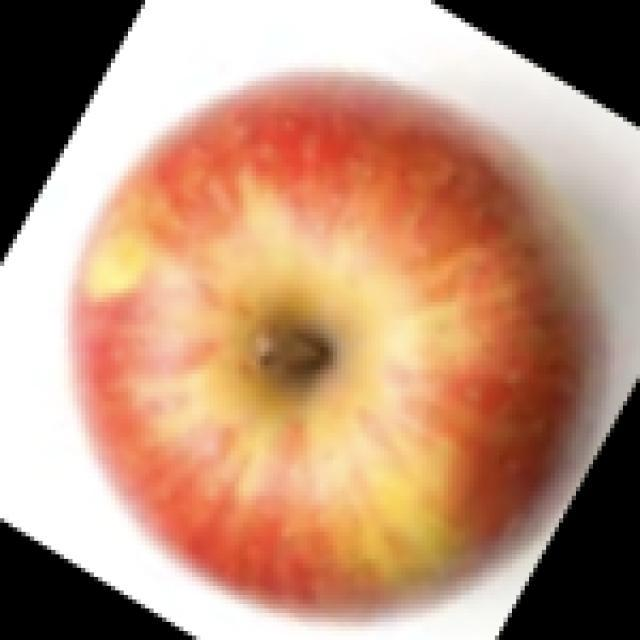Fresh Apple: (94, 72, 578, 600)
